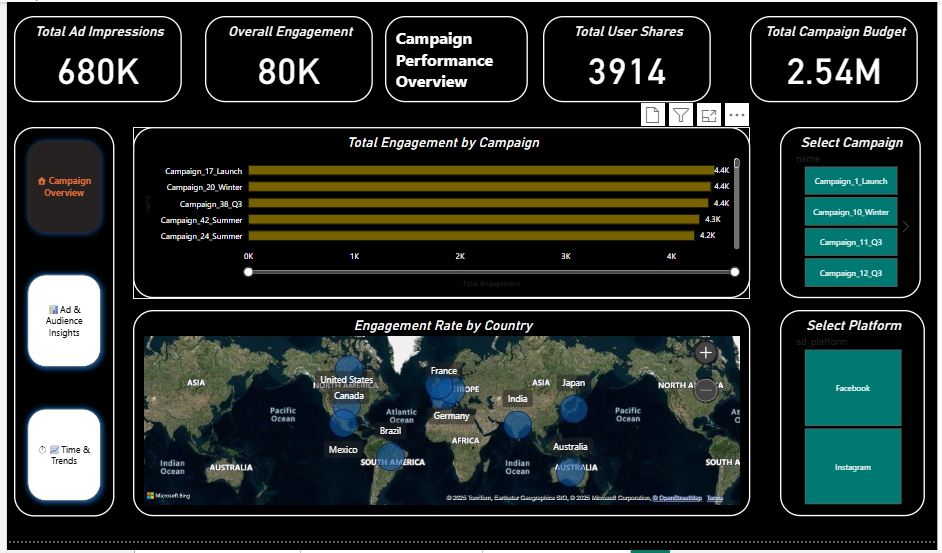

What the dashboard file says about the page in this screenshot:
{"tool":"powerbi","page":{"name":"🏠︎ Campaign Overview","canvas":[1380,800],"ordinal":0},"visuals":[{"type":"card","title":"Total Ad Impressions","fields":{"Values":["Meaasure Table.Total Impressions"]},"box":[10.4,20.8,249.3,127.6],"z":0},{"type":"card","title":"Overall Engagement","fields":{"Values":["Meaasure Table.Total Engagement"]},"box":[293.8,20.8,249.3,127.6],"z":1000},{"type":"card","title":"Total User Shares","fields":{"Values":["Meaasure Table.Total Shares"]},"box":[819.1,22.3,249.3,127.6],"z":2000},{"type":"card","title":"Total Campaign Budget","fields":{"Values":["Meaasure Table.Total Budget"]},"box":[1102.5,20.8,249.3,127.6],"z":3000},{"type":"barChart","title":"Total Engagement by Campaign","fields":{"Y":["Meaasure Table.Total Engagement"],"Category":["social_media_ad campaigns.name"]},"box":[187.4,185.9,915.8,254.5],"z":4000},{"type":"map","title":"Engagement Rate by Country","fields":{"Category":["social_media_ad users.country"],"Size":["Meaasure Table.Engagement Rate"],"Y":["Meaasure Table.Total Impressions"]},"box":[188.1,457.8,915.6,325.9],"z":5000},{"type":"slicer","title":"Select Campaign","fields":{"Values":["social_media_ad campaigns.name"]},"box":[1147.4,185.9,208.8,254.5],"z":6000},{"type":"slicer","title":"Select Platform","fields":{"Values":["social_media_ad ads.ad_platform"]},"box":[1147.4,457.1,214.9,306.3],"z":7000},{"type":"pageNavigator","box":[10.4,195.6,149.6,588.1],"z":8000},{"type":"textbox","box":[560.8,21.3,211.8,128],"z":9000}]}

Visuals, with their boxes in screenshot pixels (x1, y1, x2, y2), scaled from the page's 1380x800 canvas onto the 942x553 screenshot:
"Total Ad Impressions" card: <bbox>7, 14, 177, 103</bbox>
"Overall Engagement" card: <bbox>201, 14, 371, 103</bbox>
"Total User Shares" card: <bbox>559, 15, 729, 104</bbox>
"Total Campaign Budget" card: <bbox>753, 14, 923, 103</bbox>
"Total Engagement by Campaign" barChart: <bbox>128, 129, 753, 304</bbox>
"Engagement Rate by Country" map: <bbox>128, 316, 753, 542</bbox>
"Select Campaign" slicer: <bbox>783, 129, 926, 304</bbox>
"Select Platform" slicer: <bbox>783, 316, 930, 528</bbox>
pageNavigator: <bbox>7, 135, 109, 542</bbox>
textbox: <bbox>383, 15, 527, 103</bbox>
